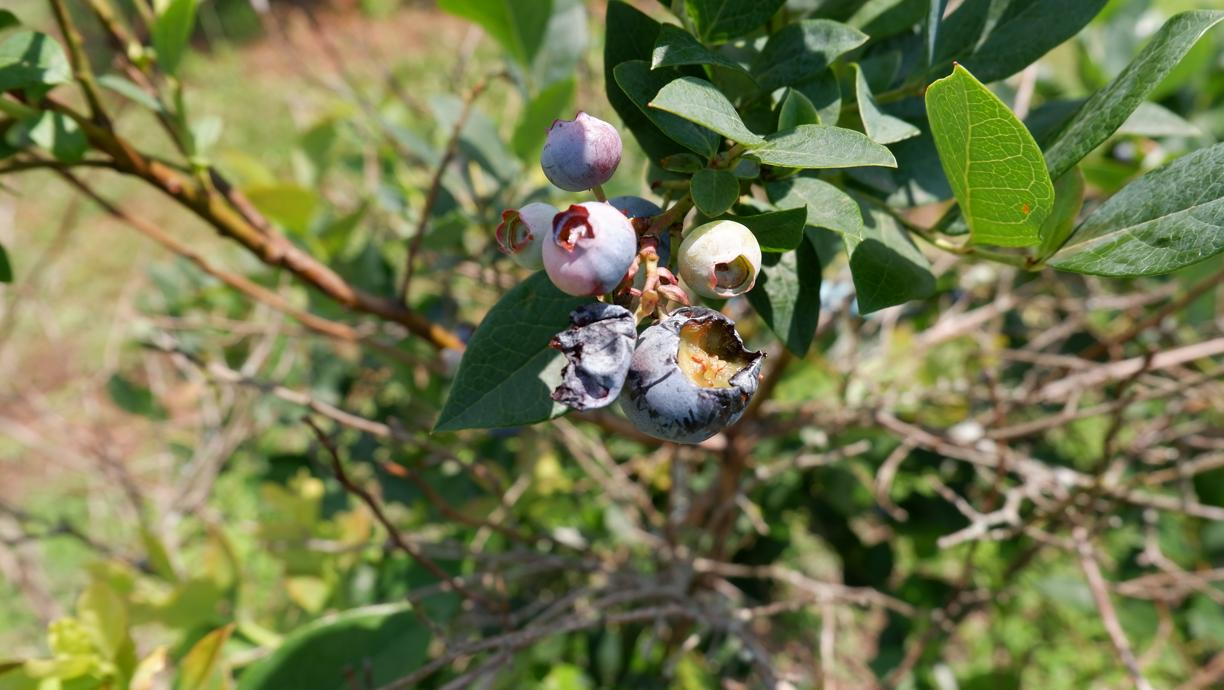Immature: (540, 201, 637, 297), (677, 220, 762, 299), (495, 202, 562, 270)
Mature: (618, 306, 765, 445), (548, 303, 639, 412), (541, 111, 622, 195), (607, 195, 672, 269)
